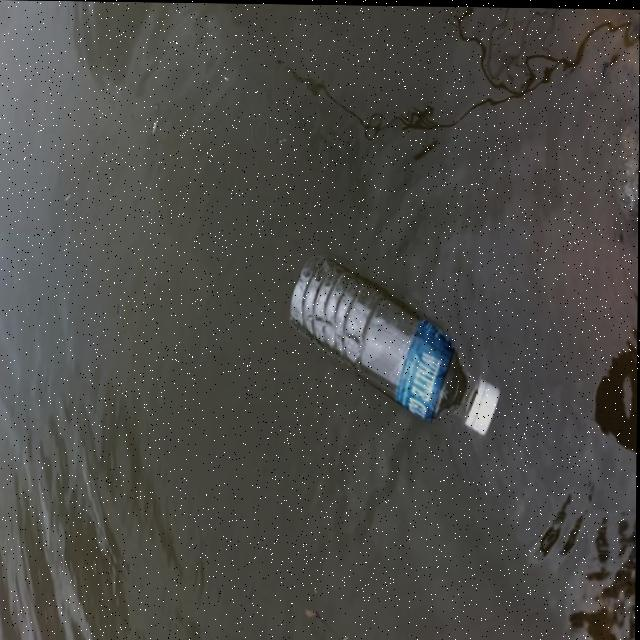waterbottle: (278, 238, 511, 458)
